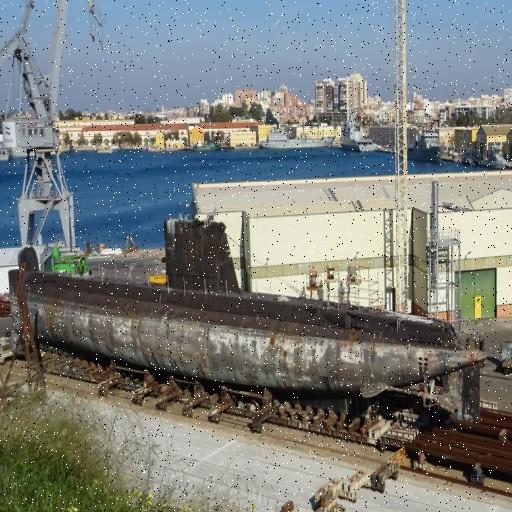submarine: (8, 218, 483, 422)
